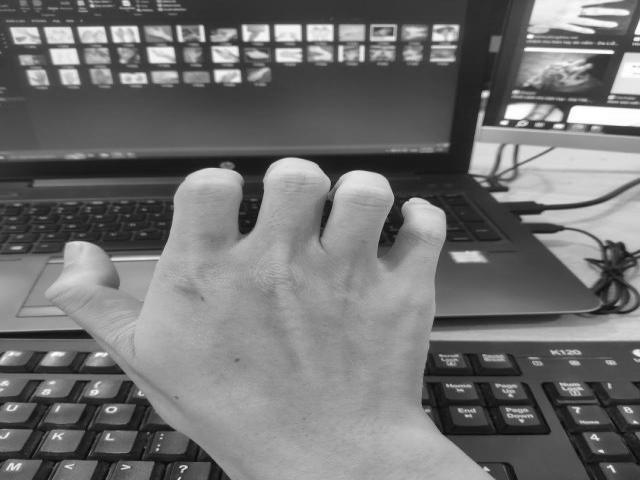not-gloved: (43, 157, 490, 480)
